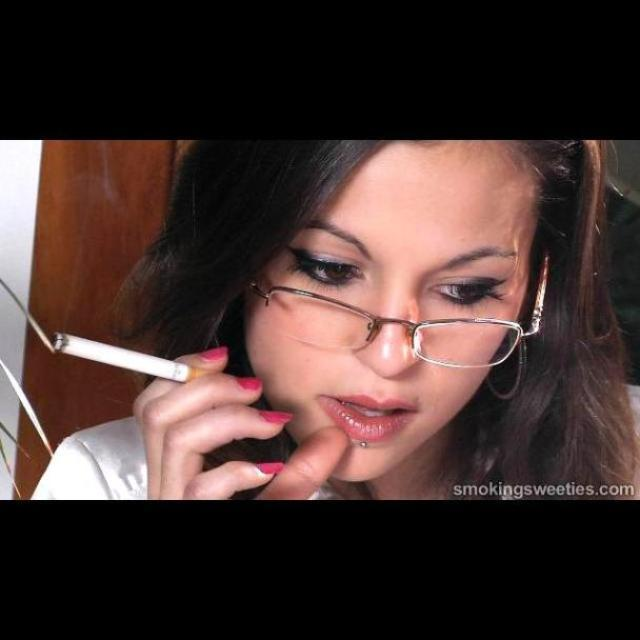rokok: (45, 328, 242, 390)
